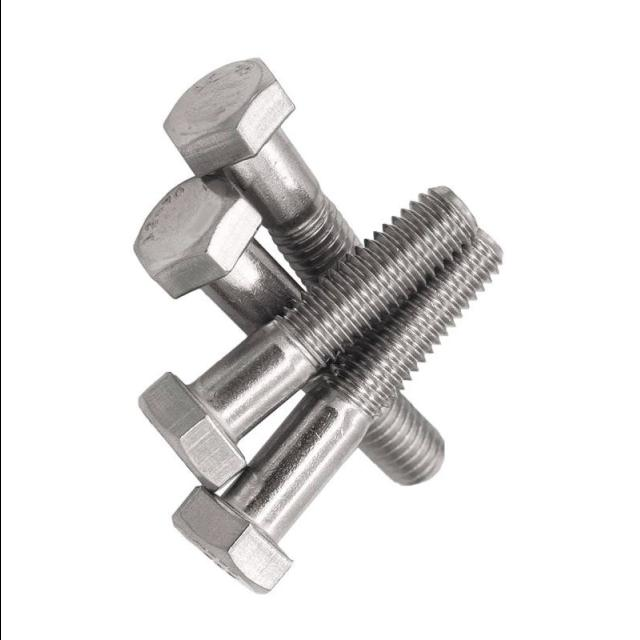Bolt: (170, 228, 504, 596), (138, 183, 474, 492), (134, 170, 446, 488), (160, 55, 368, 290)
